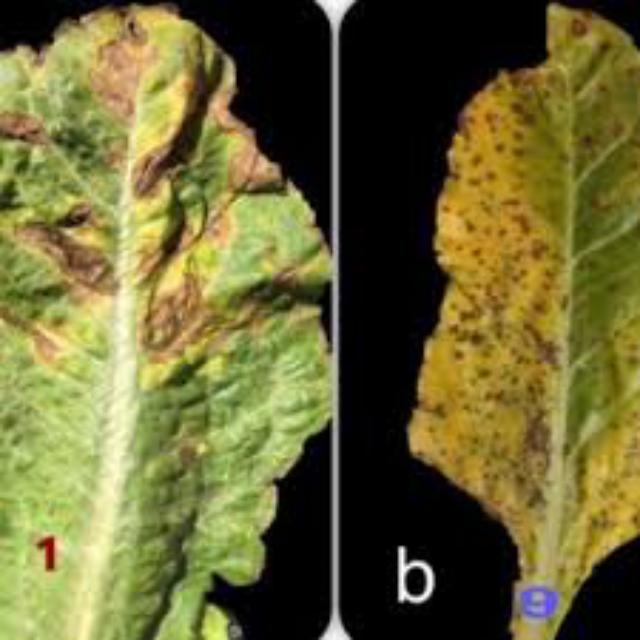Lettuce - Anthracnose: (0, 8, 332, 640), (413, 6, 640, 640), (639, 6, 640, 640)
